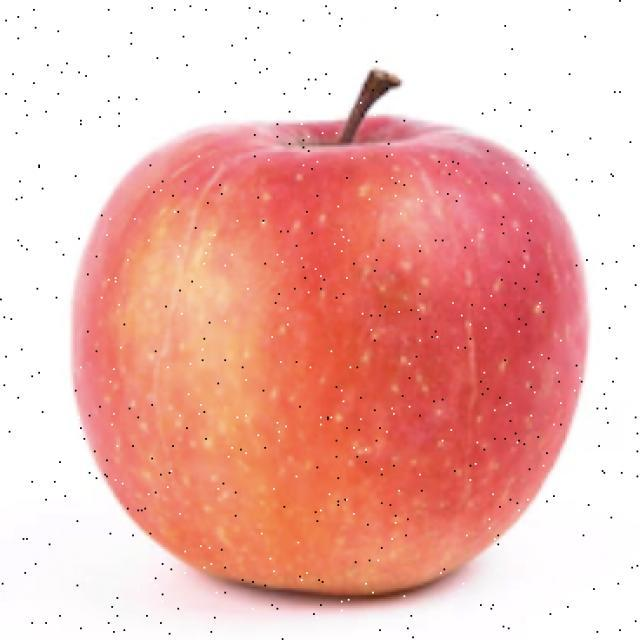Fresh Apple: (65, 107, 591, 600)
